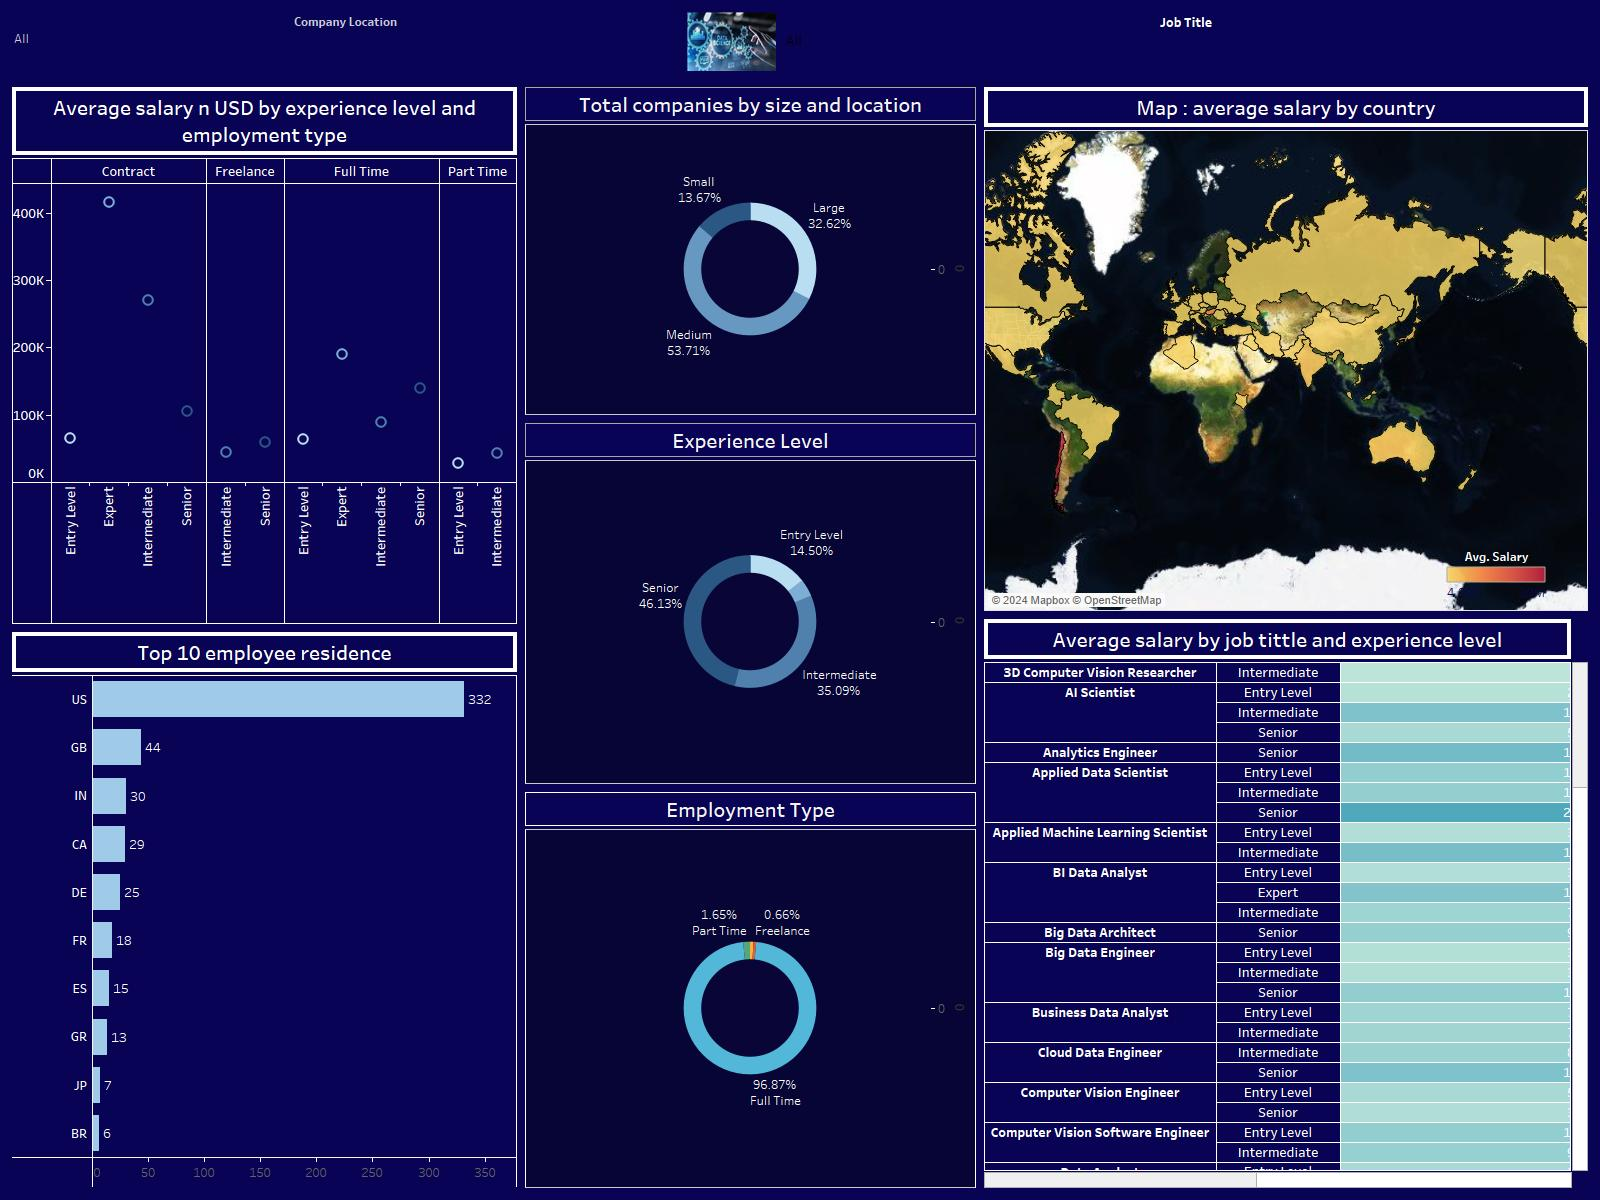

The dashboard page shown, as its layout file describes it:
{"tool":"tableau","page":{"name":"Dashboard 1","canvas":[1600,1200],"ordinal":0},"visuals":[{"type":"filter","title":"Total companies by size and location","param":"[federated.0d1eeu00luffr314i7nlm0oi1o95].[none:company_location:nk]","box":[8,8,675,52]},{"type":"image","param":"C:/Users/SONY/Downloads/download (3).jpeg","box":[683,8,97,75]},{"type":"filter","title":"Average salary n USD by experience level and employment type","param":"[federated.0d1eeu00luffr314i7nlm0oi1o95].[none:job_title:nk]","box":[780,8,812,75]},{"type":"worksheet","title":"Average salary n USD by experience level and employment type","mark":"Shape","rows":["salary_in_usd"],"cols":["employment_type","experience_level"],"box":[8,83,513,545]},{"type":"worksheet","title":"Total companies by size and location","mark":"Pie","rows":["Calculation_898186703759896577","Calculation_898186703760076803"],"box":[521,83,459,336]},{"type":"worksheet","title":"Map : average salary by country","mark":"Automatic","box":[980,83,612,532]},{"type":"worksheet","title":"Experience Level","mark":"Pie","rows":["Calculation_898186703759896577","Calculation_898186703760076803"],"box":[521,419,459,369]},{"type":"legend","title":"Map : average salary by country","param":"[federated.0d1eeu00luffr314i7nlm0oi1o95].[avg:salary:qk]","box":[1443,544,106.7,76]},{"type":"worksheet","title":"Average salary by job tittle and experience level","mark":"Square","rows":["job_title","experience_level"],"box":[980,615,612,577]},{"type":"worksheet","title":"Top 10 employee residence","mark":"Automatic","rows":["employee_residence"],"cols":["employee_residence"],"box":[8,628,513,564]},{"type":"worksheet","title":"Employment Type","mark":"Pie","rows":["Calculation_898186703759896577","Calculation_898186703760076803"],"box":[521,788,459,404]}]}

Visuals, with their boxes in screenshot pixels (x1, y1, x2, y2), scaled from the page's 1600x1200 canvas onto the 1600x1200 screenshot:
"Total companies by size and location" filter: (x1=8, y1=8, x2=683, y2=60)
image: (x1=683, y1=8, x2=780, y2=83)
"Average salary n USD by experience level and employment type" filter: (x1=780, y1=8, x2=1592, y2=83)
"Average salary n USD by experience level and employment type" worksheet (Shape marks): (x1=8, y1=83, x2=521, y2=628)
"Total companies by size and location" worksheet (Pie marks): (x1=521, y1=83, x2=980, y2=419)
"Map : average salary by country" worksheet: (x1=980, y1=83, x2=1592, y2=615)
"Experience Level" worksheet (Pie marks): (x1=521, y1=419, x2=980, y2=788)
"Map : average salary by country" legend: (x1=1443, y1=544, x2=1550, y2=620)
"Average salary by job tittle and experience level" worksheet (Square marks): (x1=980, y1=615, x2=1592, y2=1192)
"Top 10 employee residence" worksheet: (x1=8, y1=628, x2=521, y2=1192)
"Employment Type" worksheet (Pie marks): (x1=521, y1=788, x2=980, y2=1192)
